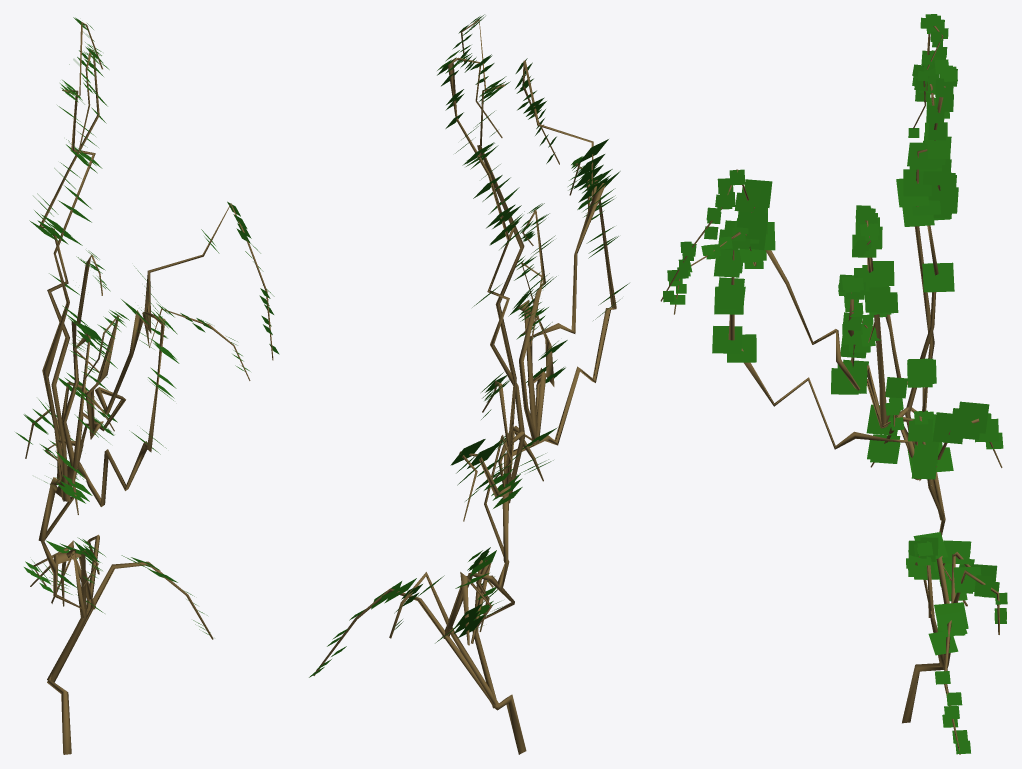
The model's file is ivy4.fbx.
3 renders of one model, left to right at view 1: azimuth 30°, elevation 25°; view 2: azimuth 150°, elevation 25°; view 3: azimuth 270°, elevation 25°, orthographic. The views are drawn at different scales.
Parts seen in each view (by area): view 1: IVY_Curve.003; view 2: IVY_Curve.003; view 3: IVY_Curve.003.
Boxes of the visible parts, x1=… form: IVY_Curve.003: x1=15, y1=17, x2=279, y2=754; IVY_Curve.003: x1=309, y1=14, x2=629, y2=754; IVY_Curve.003: x1=660, y1=14, x2=1007, y2=754.
Size of the model in its own units: 109 by 385 by 168.
